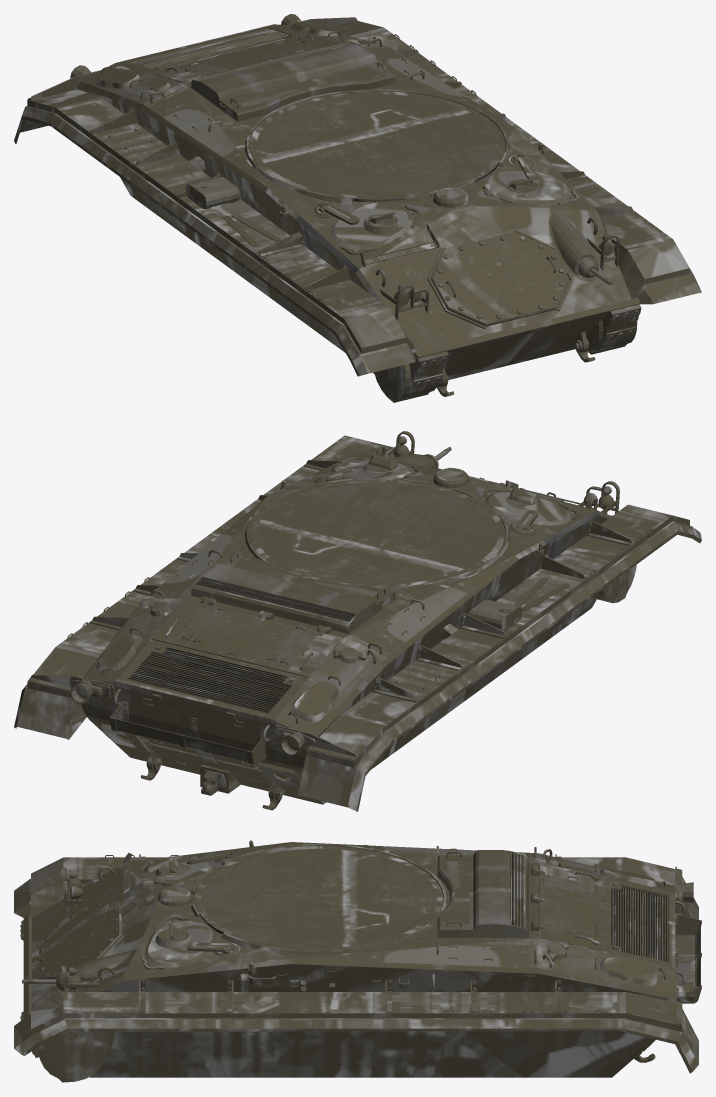
Rendered from chaffee_hull_m3.obj.
3 views of the same model, one above another, from view 1: azimuth 30°, elevation 25°; view 2: azimuth 150°, elevation 25°; view 3: azimuth 270°, elevation 25° (orthographic). The views are drawn at different scales.
Parts seen in each view (by area): view 1: chaffee_hull_m3; view 2: chaffee_hull_m3; view 3: chaffee_hull_m3.
Boxes of the visible parts, left/top/right/bottom form: chaffee_hull_m3: left=14, top=14, right=701, bottom=402; chaffee_hull_m3: left=14, top=431, right=701, bottom=811; chaffee_hull_m3: left=14, top=840, right=701, bottom=1082.
Size of the model in its own units: 2.78 by 1.17 by 4.97.
Materials: 1 (1 with a texture image).
